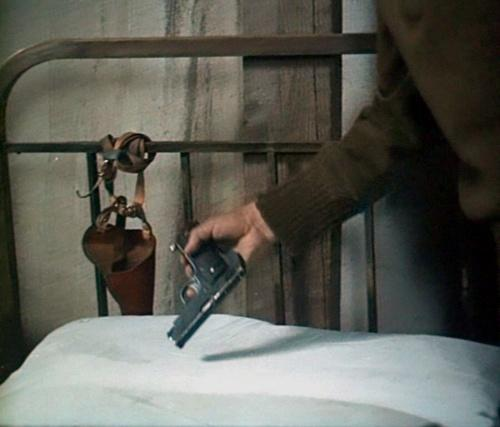Gun: (166, 223, 249, 347)
